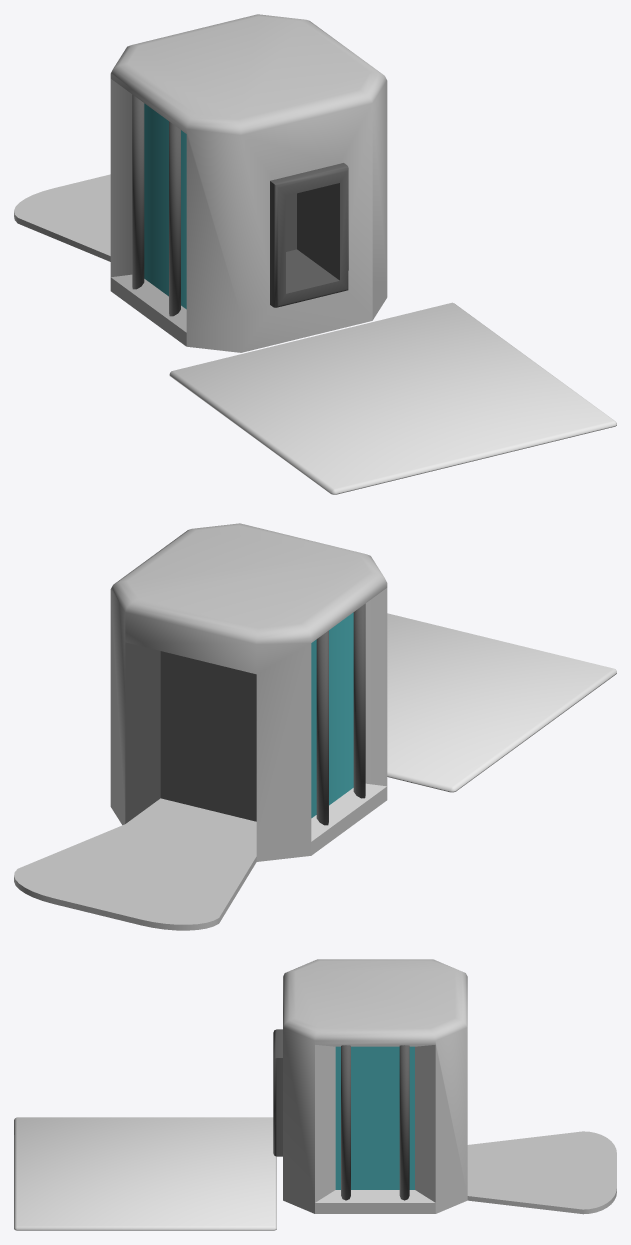
The model's file is mansell.fbx.
The picture shows the model from 3 angles, top to bottom: view 1: azimuth 30°, elevation 25°; view 2: azimuth 150°, elevation 25°; view 3: azimuth 270°, elevation 25°; orthographic projection. The views are drawn at different scales.
Visible parts, largest first — view 1: mansell, Plane.003, Cylinder; view 2: mansell, Plane.003, Cylinder; view 3: mansell, Plane.003, Cylinder.
Part boxes in pixels (left/top/right/bottom): mansell: left=14, top=14, right=387, bottom=352; Plane.003: left=169, top=302, right=616, bottom=494; Cylinder: left=132, top=94, right=180, bottom=316; mansell: left=14, top=523, right=387, bottom=930; Plane.003: left=387, top=613, right=616, bottom=792; Cylinder: left=316, top=603, right=365, bottom=825; mansell: left=273, top=959, right=616, bottom=1214; Plane.003: left=14, top=1117, right=276, bottom=1230; Cylinder: left=341, top=1045, right=409, bottom=1200.
Bounding box in the file's own units: 3.34 × 2.53 × 7.65.
